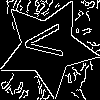V: (23, 22, 73, 61)
